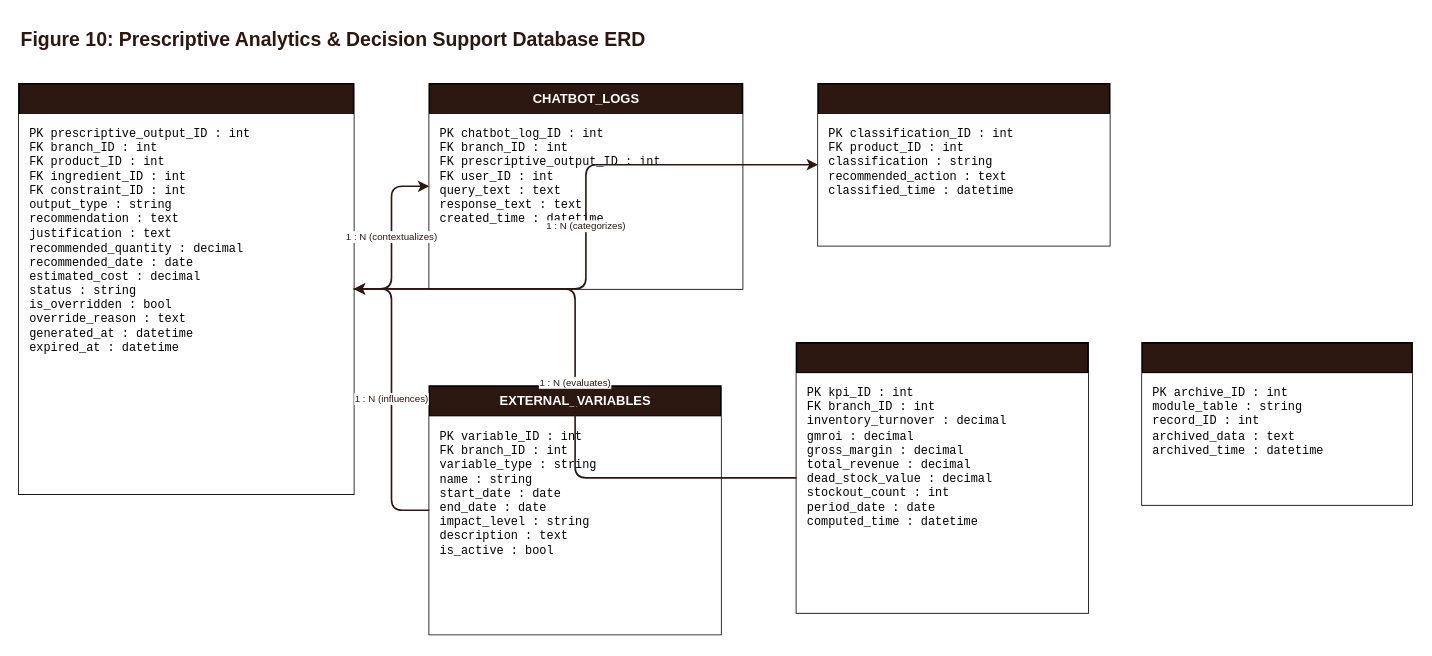
Some shapes in this 1432 by 656 pixel diagram are drawn without their labels. The shapes that lost their labels are listed below. From the top down, each one's box as (x1, y1, x2, y2) in pixels, then its label:
(817, 82, 1110, 246): PRODUCT_CLASSIFICATION
(18, 82, 354, 494): PRESCRIPTIVE_OUTPUTS
(1141, 342, 1412, 505): ARCHIVE_STORAGE
(795, 342, 1088, 613): KPI_RECORDS
